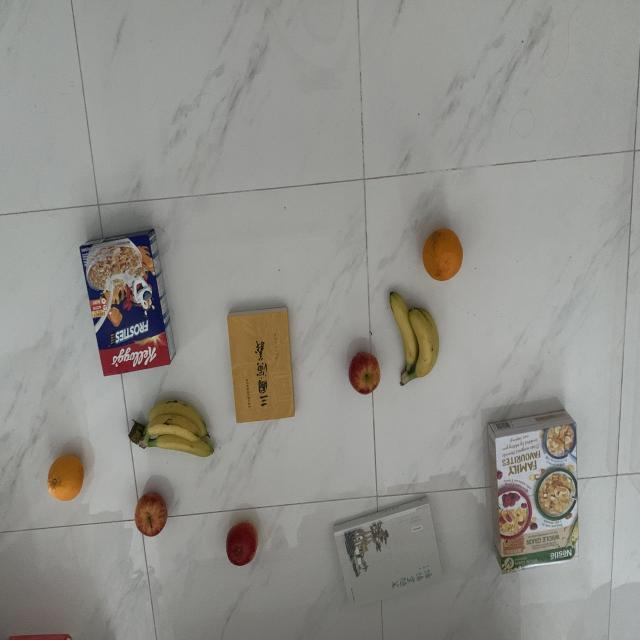apple: (132, 490, 169, 540), (345, 349, 383, 397), (224, 521, 258, 569)
banana: (128, 396, 218, 462), (386, 288, 443, 392)
orange: (418, 225, 466, 284), (48, 452, 89, 503)
